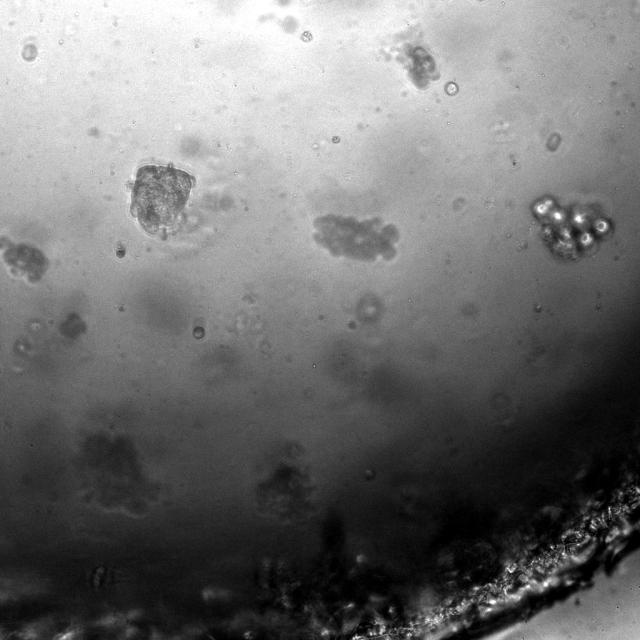organoid: (77, 431, 161, 516), (531, 195, 612, 259), (132, 164, 192, 235), (313, 214, 399, 261), (257, 462, 314, 522), (0, 236, 48, 281), (398, 42, 439, 89), (58, 312, 86, 339), (91, 565, 106, 588), (21, 43, 38, 61), (546, 132, 561, 152), (444, 81, 459, 95), (192, 325, 205, 339), (114, 243, 126, 258), (300, 29, 312, 42)
